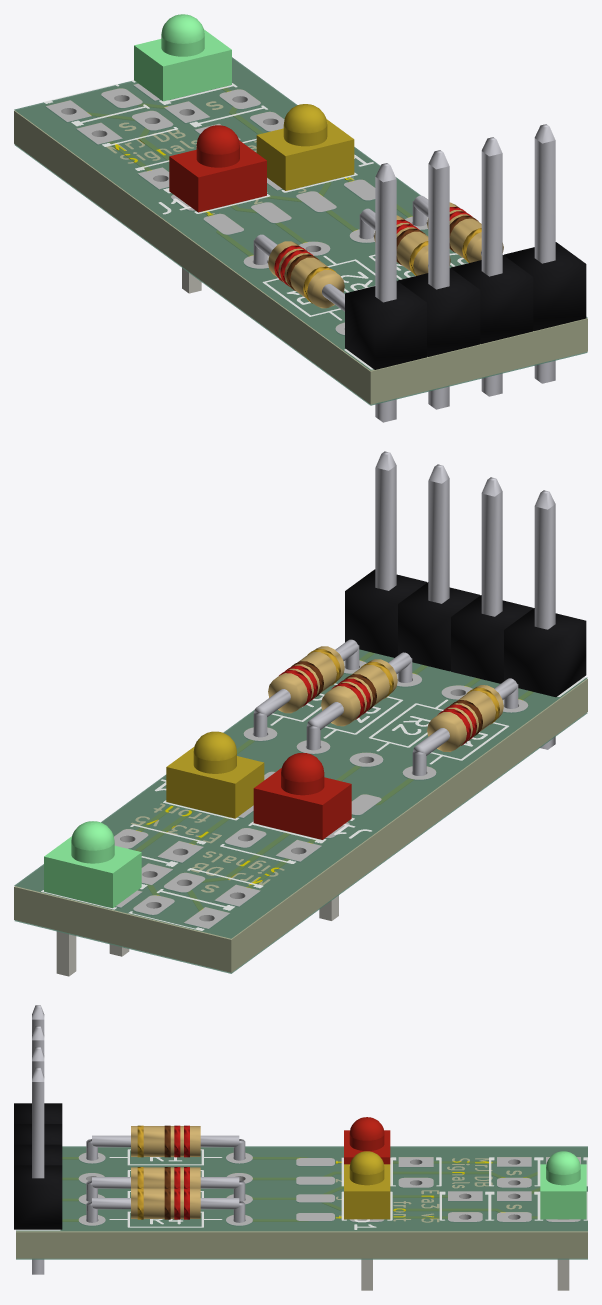
The model's file is MrJ-DB-Era3-breadboard-entry-test-w3.glb.
The picture shows the model from 3 angles, top to bottom: view 1: azimuth 30°, elevation 25°; view 2: azimuth 150°, elevation 25°; view 3: azimuth 270°, elevation 25°; orthographic projection. The views are drawn at different scales.
Parts seen in each view (by area): view 1: =>[0:1:1:17], =>[0:1:1:3] (×4), =>[0:1:1:15], =>[0:1:1:5] (×3), =>[0:1:1:13], =>[0:1:1:9], =>[0:1:1:11], =>[0:1:1:7], =>[0:1:1:14], =>[0:1:1:12], =>[0:1:1:16]; view 2: =>[0:1:1:17], =>[0:1:1:15], =>[0:1:1:3] (×4), =>[0:1:1:5] (×3), =>[0:1:1:13], =>[0:1:1:11], =>[0:1:1:9], =>[0:1:1:7], =>[0:1:1:14], =>[0:1:1:12], =>[0:1:1:16]; view 3: =>[0:1:1:17], =>[0:1:1:15], =>[0:1:1:5] (×3), =>[0:1:1:3] (×4), =>[0:1:1:13], =>[0:1:1:11], =>[0:1:1:7], =>[0:1:1:14], =>[0:1:1:9], =>[0:1:1:12], =>[0:1:1:16].
Part boxes in pixels (x1,y1,x2,y2): =>[0:1:1:17]: (14, 59, 587, 404); =>[0:1:1:3] (×4): (345, 124, 586, 422); =>[0:1:1:15]: (14, 57, 587, 370); =>[0:1:1:5] (×3): (253, 195, 503, 311); =>[0:1:1:13]: (46, 83, 427, 335); =>[0:1:1:9]: (169, 125, 266, 293); =>[0:1:1:11]: (134, 14, 231, 101); =>[0:1:1:7]: (256, 104, 354, 190); =>[0:1:1:14]: (44, 80, 586, 369); =>[0:1:1:12]: (87, 88, 412, 256); =>[0:1:1:16]: (14, 144, 587, 405); =>[0:1:1:17]: (14, 650, 587, 972); =>[0:1:1:15]: (14, 649, 587, 938); =>[0:1:1:3] (×4): (345, 451, 586, 749); =>[0:1:1:5] (×3): (253, 639, 518, 775); =>[0:1:1:13]: (114, 660, 527, 929); =>[0:1:1:11]: (44, 821, 141, 976); =>[0:1:1:9]: (253, 752, 351, 920); =>[0:1:1:7]: (166, 731, 264, 818); =>[0:1:1:14]: (41, 676, 586, 930); =>[0:1:1:12]: (136, 652, 532, 910); =>[0:1:1:16]: (14, 713, 587, 973); =>[0:1:1:17]: (16, 1148, 587, 1258); =>[0:1:1:15]: (16, 1146, 587, 1231); =>[0:1:1:5] (×3): (86, 1125, 245, 1222); =>[0:1:1:3] (×4): (14, 1005, 62, 1274); =>[0:1:1:13]: (78, 1153, 580, 1225); =>[0:1:1:11]: (540, 1151, 586, 1290); =>[0:1:1:7]: (344, 1151, 390, 1290); =>[0:1:1:14]: (16, 1149, 587, 1230); =>[0:1:1:9]: (344, 1117, 390, 1164); =>[0:1:1:12]: (63, 1157, 539, 1221); =>[0:1:1:16]: (16, 1258, 587, 1259).
Size of the model in its own units: 0.0104 by 0.0127 by 0.0297.
